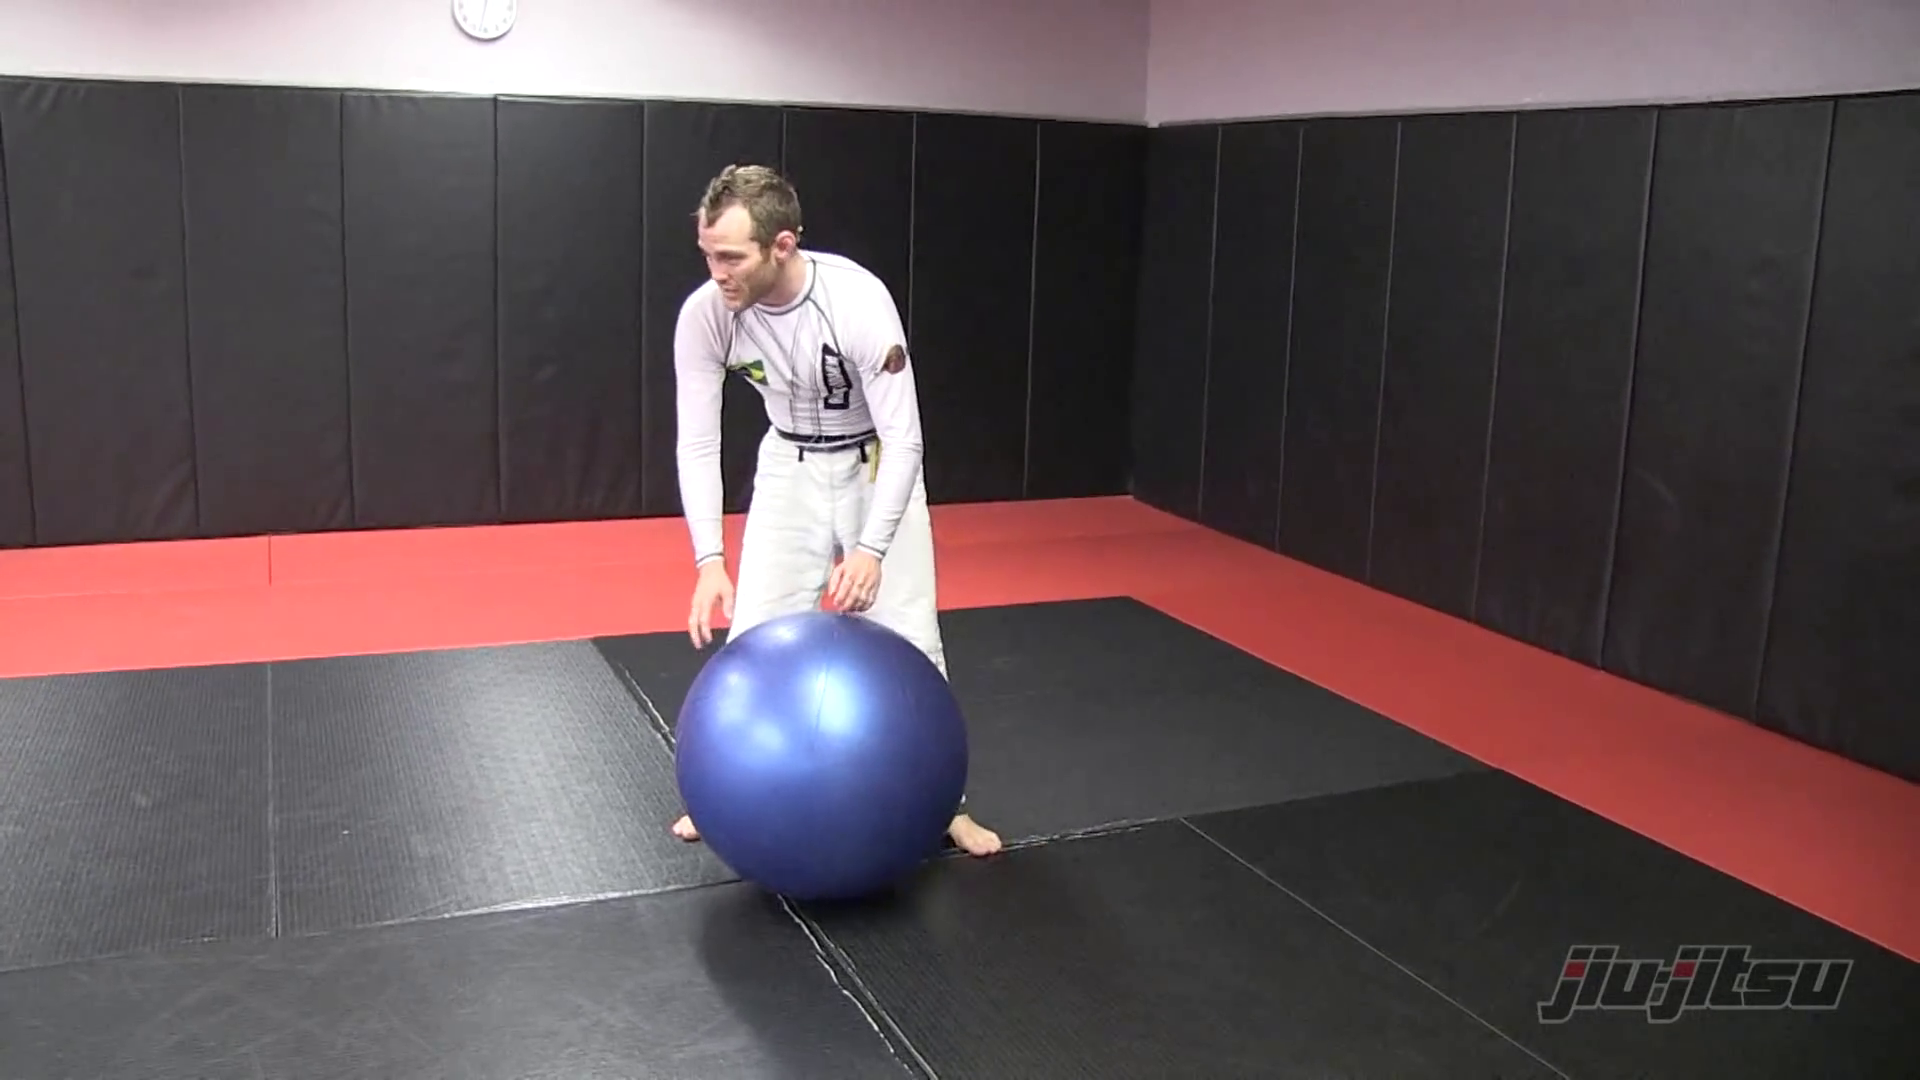yogaball: (662, 595, 1004, 905)
